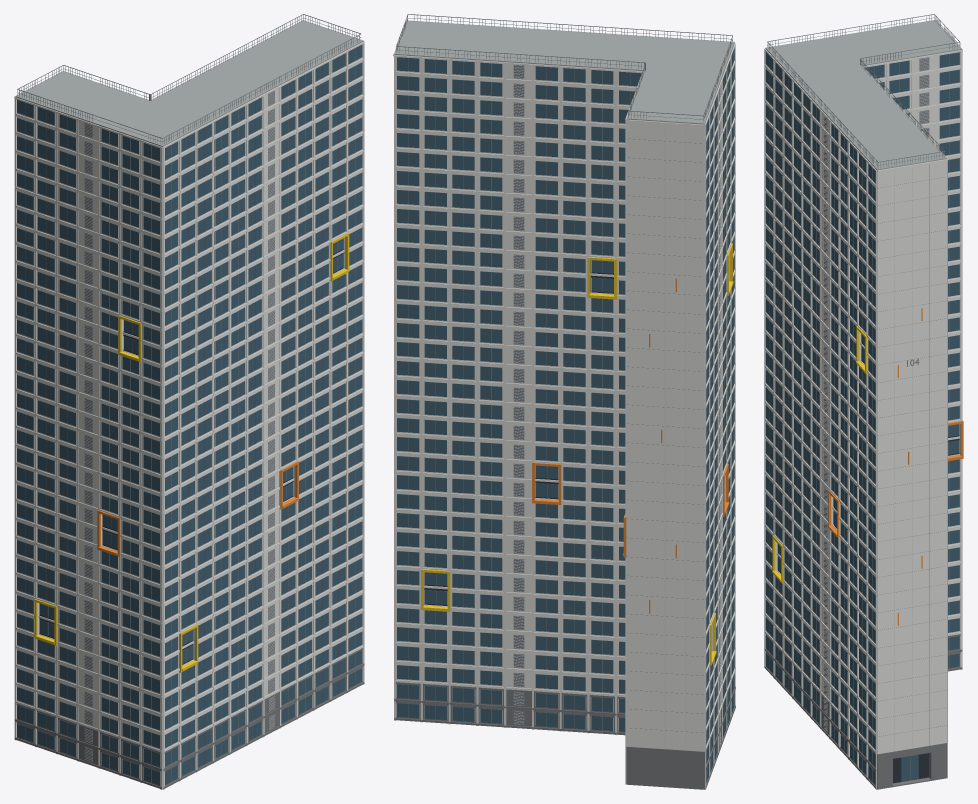
File: bespoke-songpa-helio-city-104.glb
3 views of the same model, side by side, from view 1: azimuth 30°, elevation 25°; view 2: azimuth 150°, elevation 25°; view 3: azimuth 270°, elevation 25° (orthographic). The views are drawn at different scales.
Visible parts, largest first — view 1: Helio104_editable_Helio104_dark_blue_grey_glazing002, Helio104_editable_Helio104_white_slab_frames002, Helio104_editable_Helio104_grey_service_grille002, Helio104_editable_Helio104_low_roof_deck002, Helio104_editable_Helio104_dark_grey_twofloor_base002, Helio104_editable_Helio104_blankwall_grey_panels002, Helio104_editable_Helio104_yellow_projecting_rectangular_fra, Helio104_editable_Helio104_orange_narrow_accent002; view 2: Helio104_editable_Helio104_white_slab_frames002, Helio104_editable_Helio104_dark_blue_grey_glazing002, Helio104_editable_Helio104_grey_service_grille002, Helio104_editable_Helio104_low_roof_deck002, Helio104_editable_Helio104_dark_grey_twofloor_base002, Helio104_editable_Helio104_blankwall_grey_panels002, Helio104_editable_Helio104_yellow_projecting_rectangular_fra, Helio104_editable_Helio104_orange_narrow_accent002; view 3: Helio104_editable_Helio104_white_slab_frames002, Helio104_editable_Helio104_dark_blue_grey_glazing002, Helio104_editable_Helio104_low_roof_deck002, Helio104_editable_Helio104_grey_service_grille002, Helio104_editable_Helio104_blankwall_grey_panels002, Helio104_editable_Helio104_dark_grey_twofloor_base002, Helio104_editable_Helio104_orange_narrow_accent002, Helio104_editable_Helio104_yellow_projecting_rectangular_fra, Helio104_editable_Helio104_deep_shaded_frame_recess002.
Part boxes in pixels (x1=…): Helio104_editable_Helio104_dark_blue_grey_glazing002: x1=17, y1=45, x2=362, y2=785; Helio104_editable_Helio104_white_slab_frames002: x1=14, y1=41, x2=364, y2=789; Helio104_editable_Helio104_grey_service_grille002: x1=17, y1=14, x2=360, y2=782; Helio104_editable_Helio104_low_roof_deck002: x1=15, y1=20, x2=363, y2=146; Helio104_editable_Helio104_dark_grey_twofloor_base002: x1=14, y1=648, x2=364, y2=789; Helio104_editable_Helio104_blankwall_grey_panels002: x1=85, y1=91, x2=274, y2=761; Helio104_editable_Helio104_yellow_projecting_rectangular_fra: x1=34, y1=233, x2=349, y2=672; Helio104_editable_Helio104_orange_narrow_accent002: x1=97, y1=461, x2=298, y2=556; Helio104_editable_Helio104_white_slab_frames002: x1=393, y1=21, x2=735, y2=789; Helio104_editable_Helio104_dark_blue_grey_glazing002: x1=397, y1=48, x2=734, y2=782; Helio104_editable_Helio104_grey_service_grille002: x1=396, y1=14, x2=733, y2=780; Helio104_editable_Helio104_low_roof_deck002: x1=394, y1=20, x2=734, y2=124; Helio104_editable_Helio104_dark_grey_twofloor_base002: x1=394, y1=682, x2=735, y2=789; Helio104_editable_Helio104_blankwall_grey_panels002: x1=514, y1=65, x2=721, y2=750; Helio104_editable_Helio104_yellow_projecting_rectangular_fra: x1=421, y1=243, x2=733, y2=665; Helio104_editable_Helio104_orange_narrow_accent002: x1=532, y1=278, x2=729, y2=613; Helio104_editable_Helio104_white_slab_frames002: x1=764, y1=26, x2=962, y2=789; Helio104_editable_Helio104_dark_blue_grey_glazing002: x1=766, y1=52, x2=959, y2=784; Helio104_editable_Helio104_low_roof_deck002: x1=765, y1=20, x2=961, y2=170; Helio104_editable_Helio104_grey_service_grille002: x1=767, y1=14, x2=960, y2=781; Helio104_editable_Helio104_blankwall_grey_panels002: x1=823, y1=57, x2=929, y2=751; Helio104_editable_Helio104_dark_grey_twofloor_base002: x1=764, y1=634, x2=962, y2=789; Helio104_editable_Helio104_orange_narrow_accent002: x1=828, y1=308, x2=963, y2=625; Helio104_editable_Helio104_yellow_projecting_rectangular_fra: x1=772, y1=326, x2=868, y2=583; Helio104_editable_Helio104_deep_shaded_frame_recess002: x1=777, y1=342, x2=959, y2=783.
Bounding box in the file's own units: 51.07 × 99.2 × 28.54.
